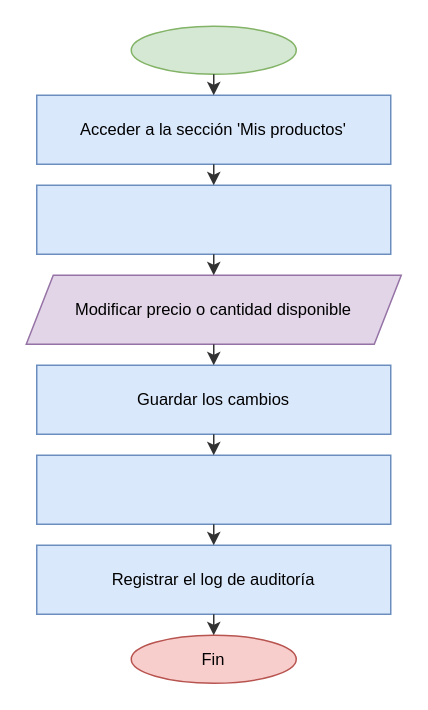
This 428x710 diagram has some shape labels left out. The box of each missing label's shape, as (x1, y1, x2, y2) in pixels:
Actualizar la publicación de inmediato, sin nueva aprobación: (35, 454, 391, 524)
Inicio: (130, 25, 296, 74)
Seleccionar una publicación ya aprobada: (35, 184, 391, 254)
